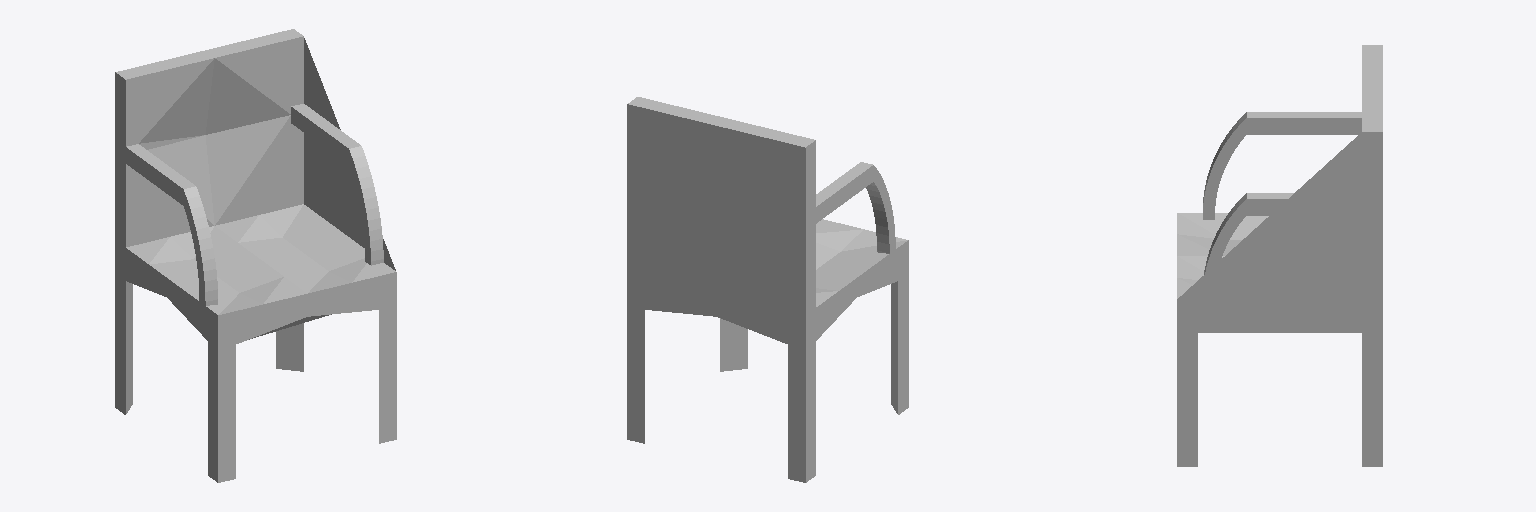
Rendered from silla_ext_9.obj.
3 renders of one model, left to right at view 1: azimuth 30°, elevation 25°; view 2: azimuth 150°, elevation 25°; view 3: azimuth 270°, elevation 25°, orthographic.
Parts seen in each view (by area): view 1: Cubo.032_Cubo.044; view 2: Cubo.032_Cubo.044; view 3: Cubo.032_Cubo.044.
Part boxes in pixels (x1,y1,x2,y2): Cubo.032_Cubo.044: (115, 29, 396, 482); Cubo.032_Cubo.044: (627, 97, 908, 482); Cubo.032_Cubo.044: (1177, 45, 1382, 466).
Size of the model in its own units: 0.5 by 0.9 by 0.5.